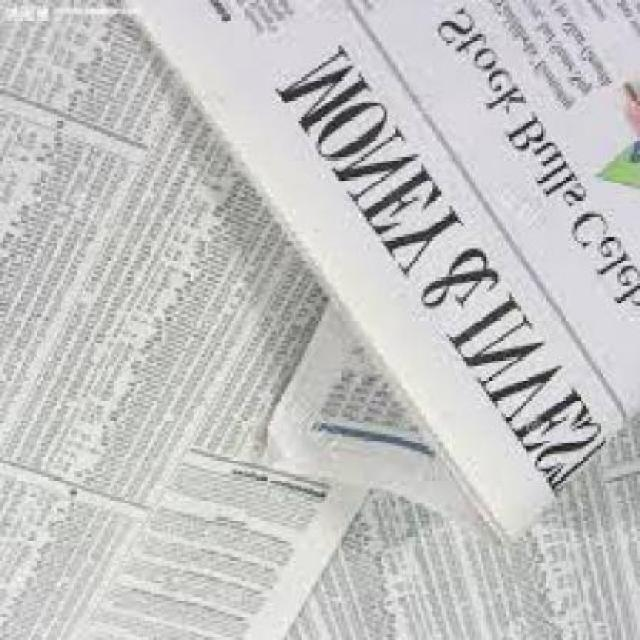PAPER: (120, 3, 637, 551), (0, 4, 372, 638), (275, 424, 638, 640)
